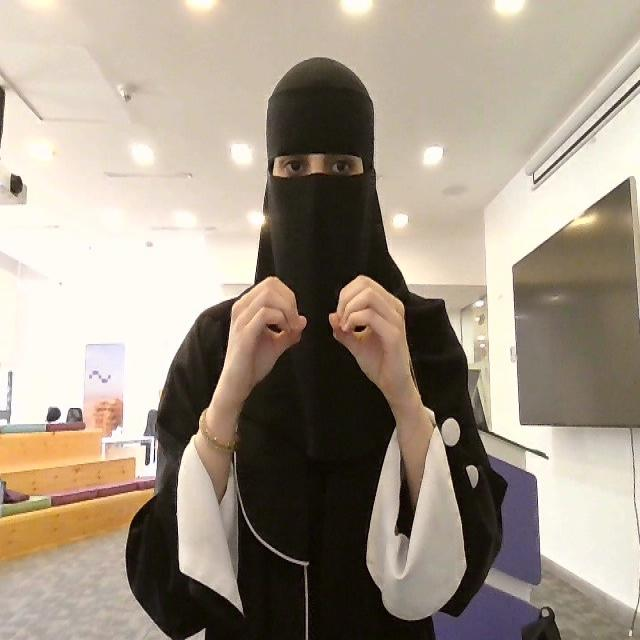analysis: (224, 273, 423, 391)
